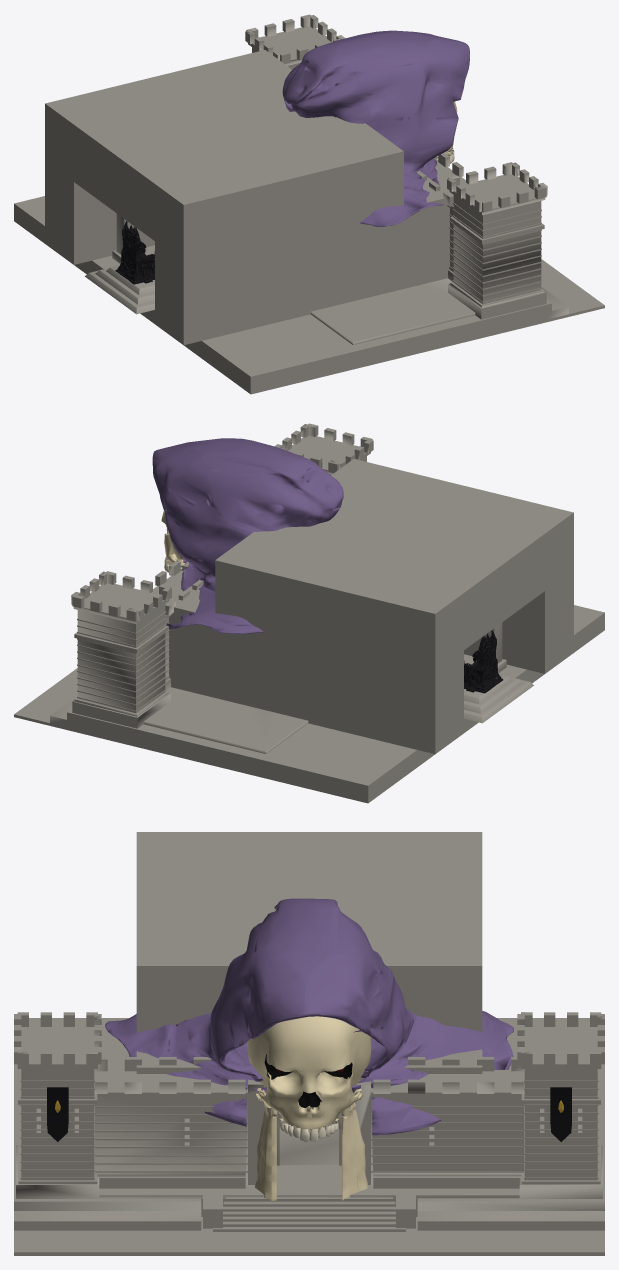
Rendered from leonidas-grayskull-lod0.glb.
The picture shows the model from 3 angles, top to bottom: view 1: azimuth 30°, elevation 25°; view 2: azimuth 150°, elevation 25°; view 3: azimuth 270°, elevation 25°; orthographic projection. The views are drawn at different scales.
Visible parts, largest first — view 1: GS_Interior, GS_Walls, GS_Hood, GS_Bastion_L, GS_Bastion_R, GS_Courses, GS_Throne, GS_ThroneSeat; view 2: GS_Interior, GS_Walls, GS_Hood, GS_Bastion_R, GS_Bastion_L, GS_Courses, GS_Throne, GS_ThroneSeat; view 3: GS_Walls, GS_Interior, GS_Hood, GS_Bastion_L, GS_Bastion_R, GS_Courses, GS_Skull, GS_Stairs, GS_Jambs, GS_Banner_L, GS_Banner_R, GS_Teeth (+1 smaller).
Part boxes in pixels (left/top/right/bottom): GS_Interior: left=45, top=50, right=449, bottom=344; GS_Walls: left=14, top=153, right=604, bottom=394; GS_Hood: left=282, top=30, right=469, bottom=226; GS_Bastion_L: left=447, top=162, right=547, bottom=319; GS_Bastion_R: left=245, top=14, right=345, bottom=69; GS_Courses: left=449, top=202, right=541, bottom=303; GS_Throne: left=85, top=265, right=154, bottom=314; GS_ThroneSeat: left=115, top=221, right=154, bottom=284; GS_Interior: left=169, top=459, right=573, bottom=753; GS_Walls: left=14, top=561, right=604, bottom=803; GS_Hood: left=152, top=438, right=343, bottom=634; GS_Bastion_R: left=71, top=571, right=171, bottom=728; GS_Bastion_L: left=274, top=423, right=373, bottom=474; GS_Courses: left=77, top=611, right=169, bottom=712; GS_Throne: left=464, top=674, right=533, bottom=723; GS_ThroneSeat: left=464, top=630, right=503, bottom=693; GS_Walls: left=14, top=1018, right=604, bottom=1255; GS_Interior: left=136, top=832, right=482, bottom=1118; GS_Hood: left=105, top=898, right=513, bottom=1135; GS_Bastion_L: left=14, top=1012, right=101, bottom=1198; GS_Bastion_R: left=517, top=1012, right=604, bottom=1198; GS_Courses: left=20, top=1069, right=598, bottom=1179; GS_Skull: left=247, top=1016, right=371, bottom=1132; GS_Stairs: left=203, top=1191, right=415, bottom=1231; GS_Jambs: left=255, top=1093, right=367, bottom=1200; GS_Banner_L: left=47, top=1087, right=68, bottom=1141; GS_Banner_R: left=550, top=1087, right=571, bottom=1141; GS_Teeth: left=280, top=1121, right=338, bottom=1141.
Size of the model in its own units: 117 by 62.23 by 128.
